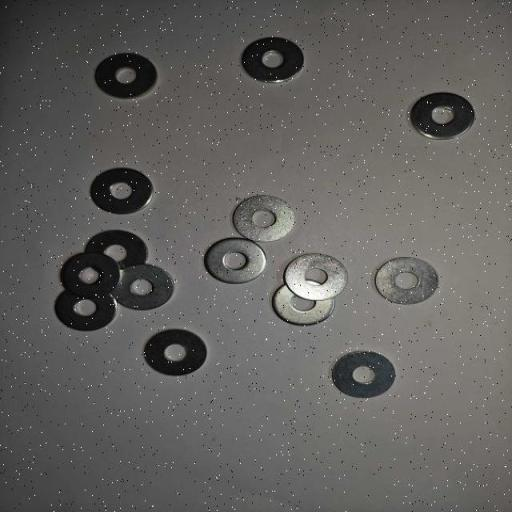Washer: (374, 255, 440, 307), (330, 349, 396, 400), (142, 328, 208, 378), (232, 193, 296, 244), (52, 283, 117, 333), (283, 252, 348, 302), (409, 91, 475, 140), (109, 263, 175, 312), (240, 35, 305, 84), (83, 229, 148, 278), (271, 278, 336, 327), (89, 167, 153, 216), (203, 236, 267, 285), (94, 52, 158, 100), (59, 250, 120, 299)
